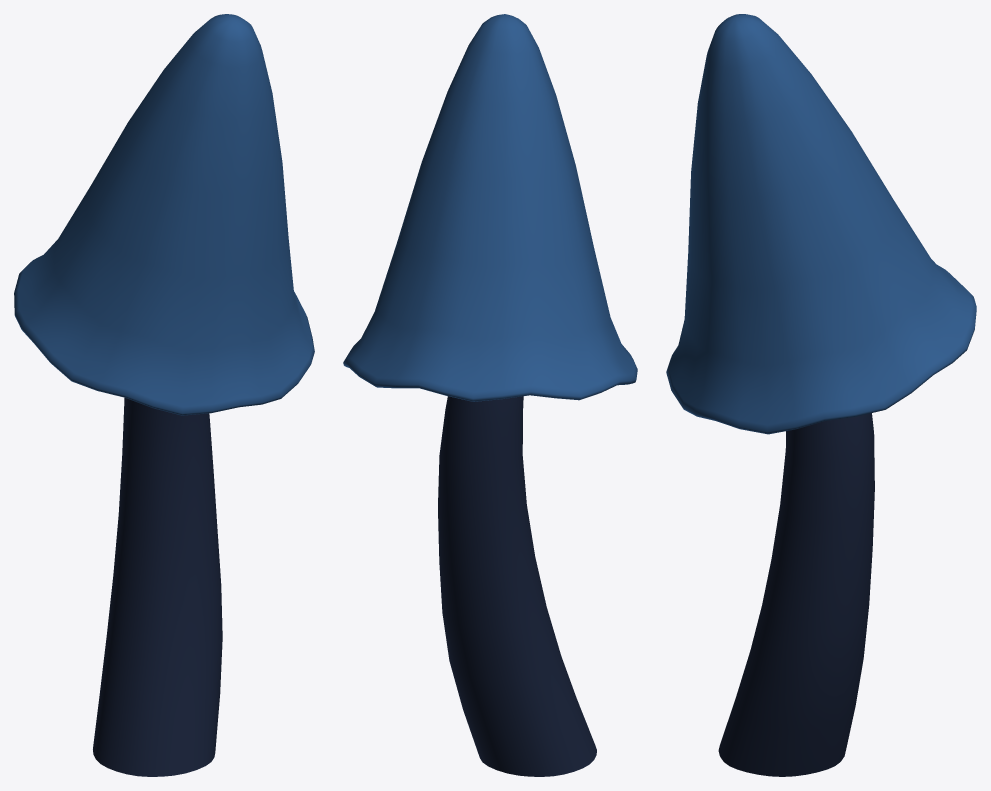
File: BlueMush_B.fbx
3 views of the same model, side by side, from view 1: azimuth 30°, elevation 25°; view 2: azimuth 150°, elevation 25°; view 3: azimuth 270°, elevation 25° (orthographic). The views are drawn at different scales.
Parts seen in each view (by area): view 1: BlueMush_B; view 2: BlueMush_B; view 3: BlueMush_B.
Boxes of the visible parts, <box> form: BlueMush_B: <box>14,14,314,776</box>; BlueMush_B: <box>343,14,637,776</box>; BlueMush_B: <box>666,14,976,776</box>.
Size of the model in its own units: 148 by 144 by 390.
